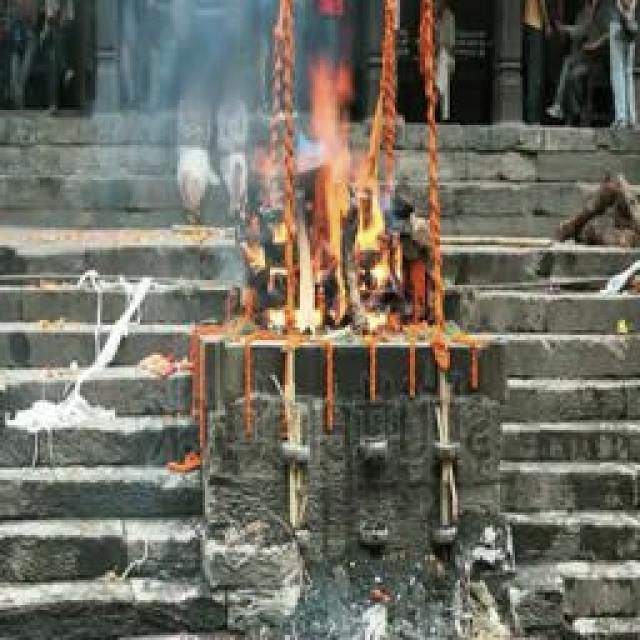Fire: (268, 56, 392, 334)
